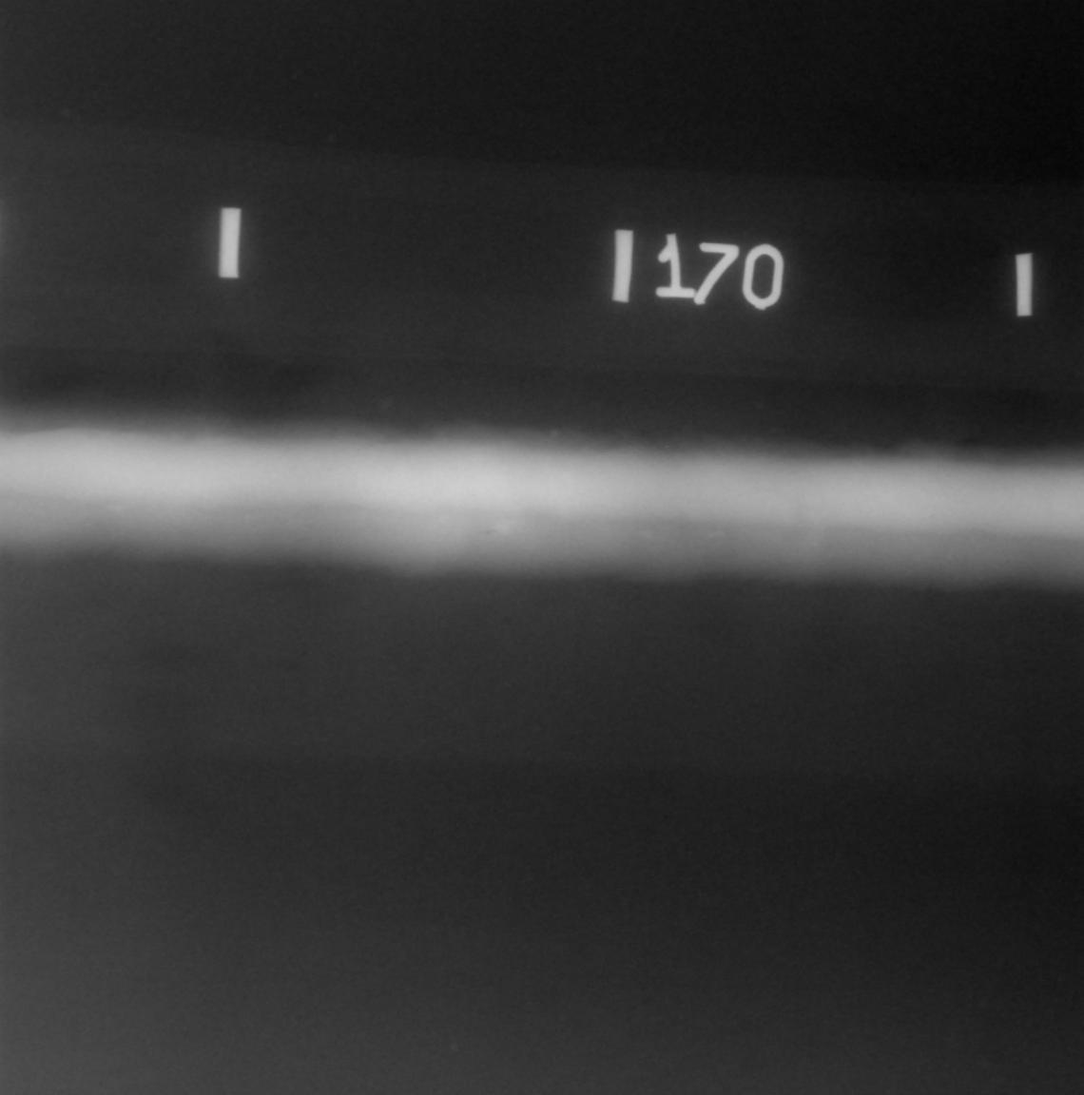Inclusion: (484, 529, 498, 534)
